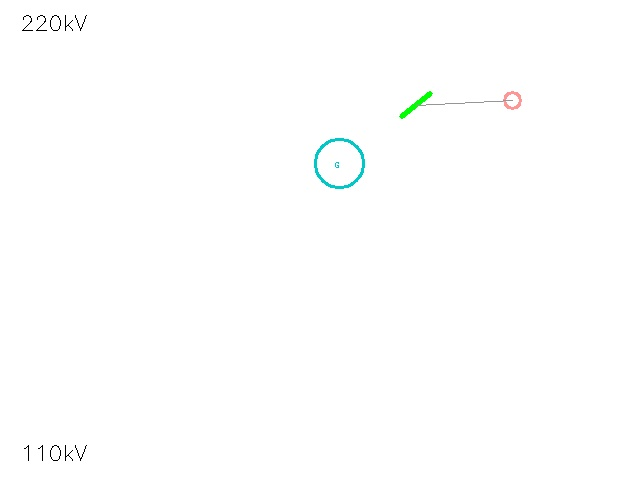busbar: (393, 82, 439, 128)
current_transformer: (496, 84, 528, 116)
generator: (315, 139, 363, 187)
